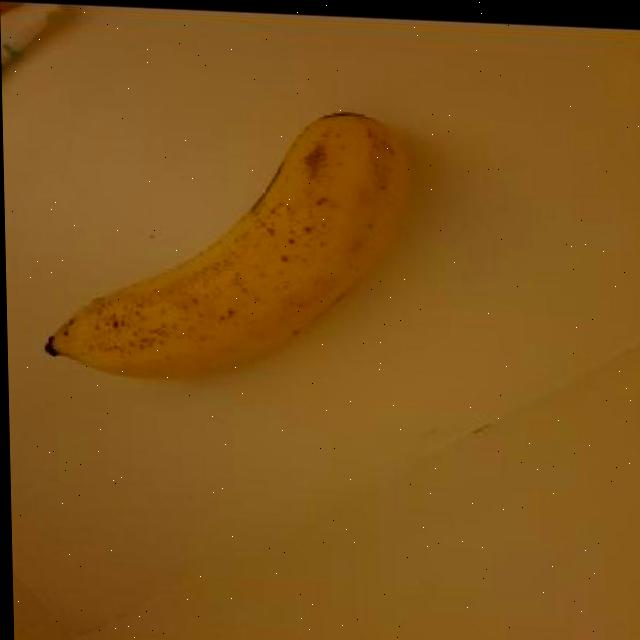banana: (26, 84, 427, 401)
